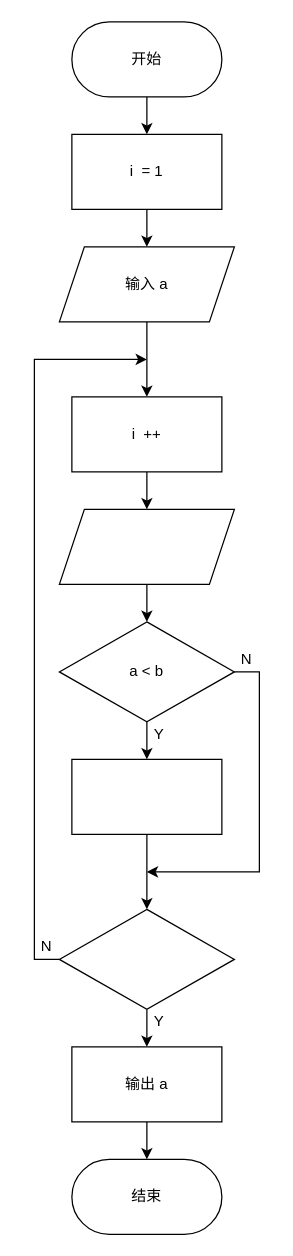
Image size: 293x1256. Some labels were removed from this diagram. Each missing label, with the box of its shape:
a = b: (71, 758, 222, 834)
i == 10: (58, 908, 234, 1009)
输入 b: (58, 508, 234, 584)
